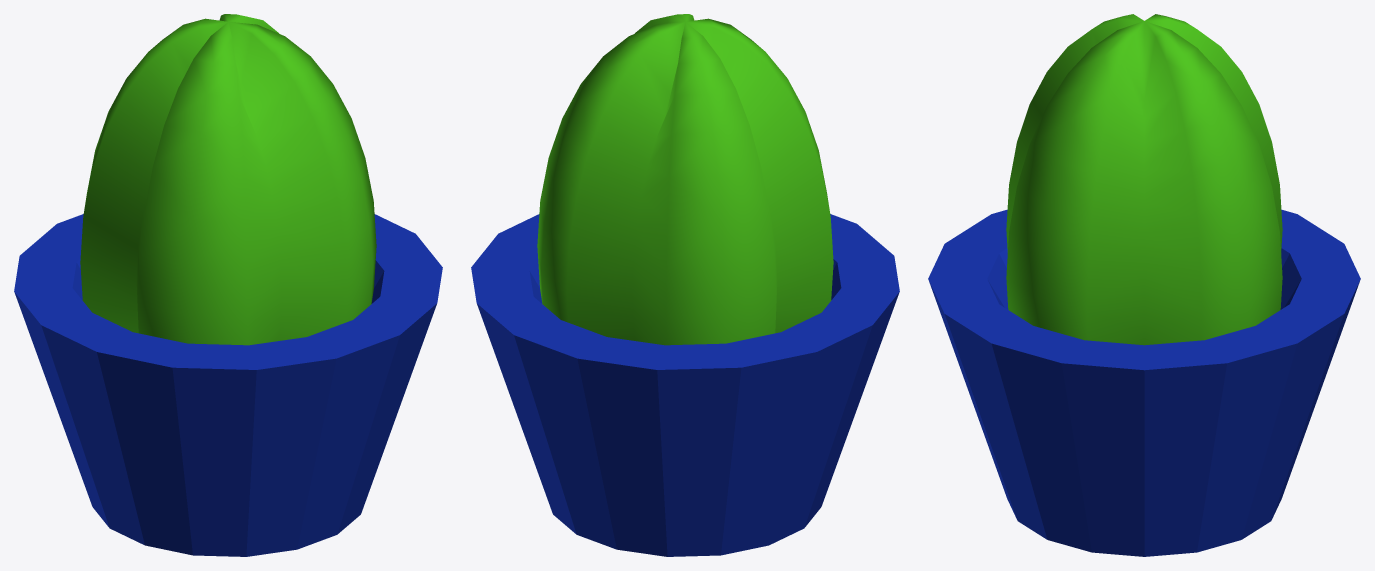
File: tanamanDinding2.obj
3 views of the same model, side by side, from view 1: azimuth 30°, elevation 25°; view 2: azimuth 150°, elevation 25°; view 3: azimuth 270°, elevation 25° (orthographic).
Visible parts, largest first — view 1: Succulent.001_Cylinder.002; view 2: Succulent.001_Cylinder.002; view 3: Succulent.001_Cylinder.002.
Part boxes in pixels (box(x1,y1,x2,y2)): Succulent.001_Cylinder.002: box(14, 14, 442, 556); Succulent.001_Cylinder.002: box(471, 14, 899, 556); Succulent.001_Cylinder.002: box(928, 14, 1360, 556).
Size of the model in its own units: 0.3821 by 0.4657 by 0.3821.
